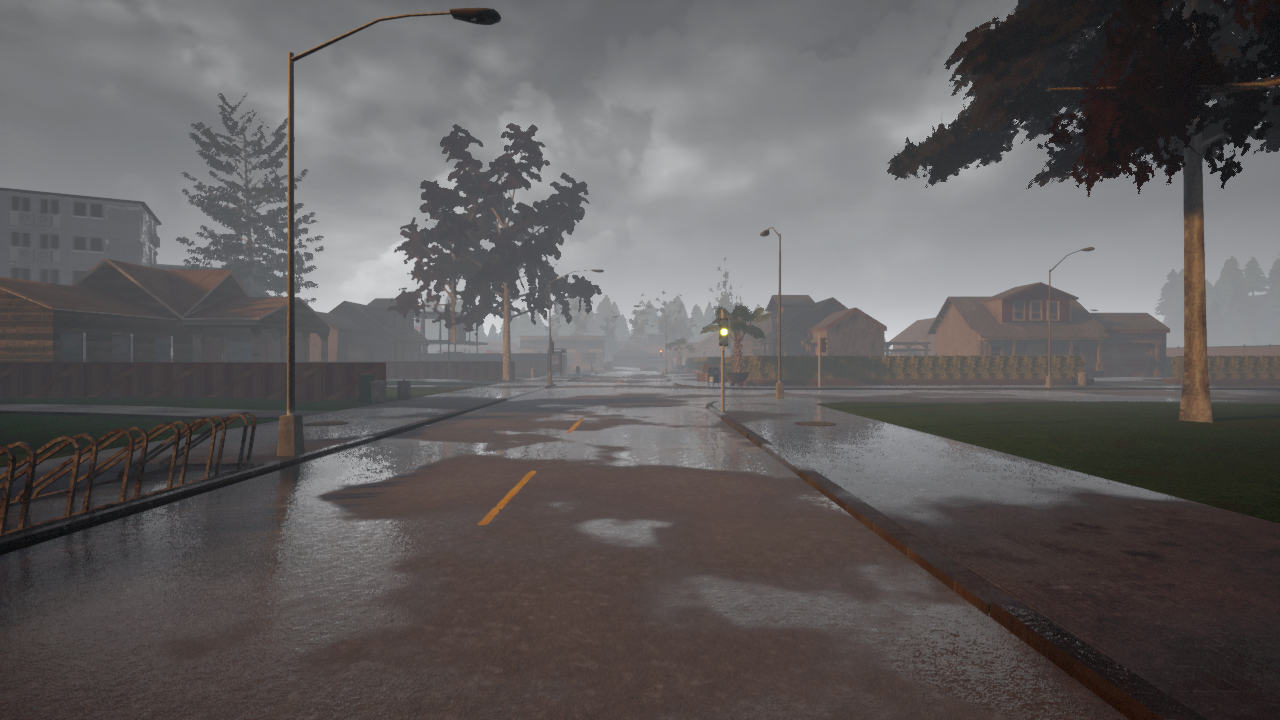yellow: (720, 317, 729, 347)
